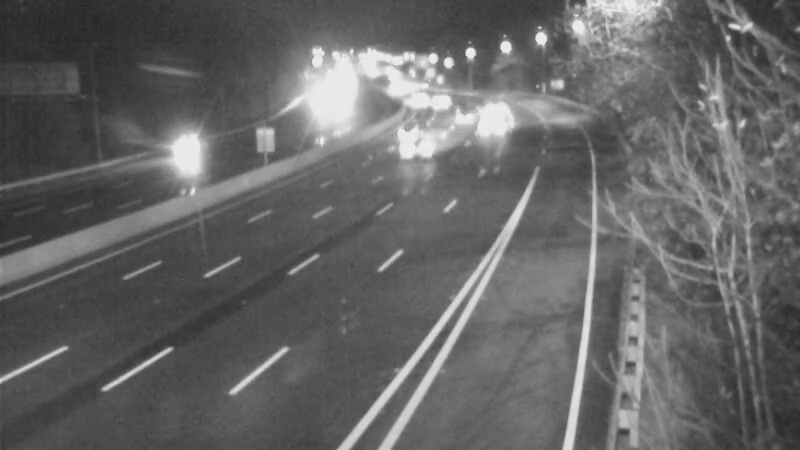vehicle: (152, 117, 232, 197), (386, 73, 436, 123), (434, 92, 484, 142), (462, 85, 512, 135), (463, 102, 513, 152), (383, 99, 433, 149), (404, 118, 454, 168)
